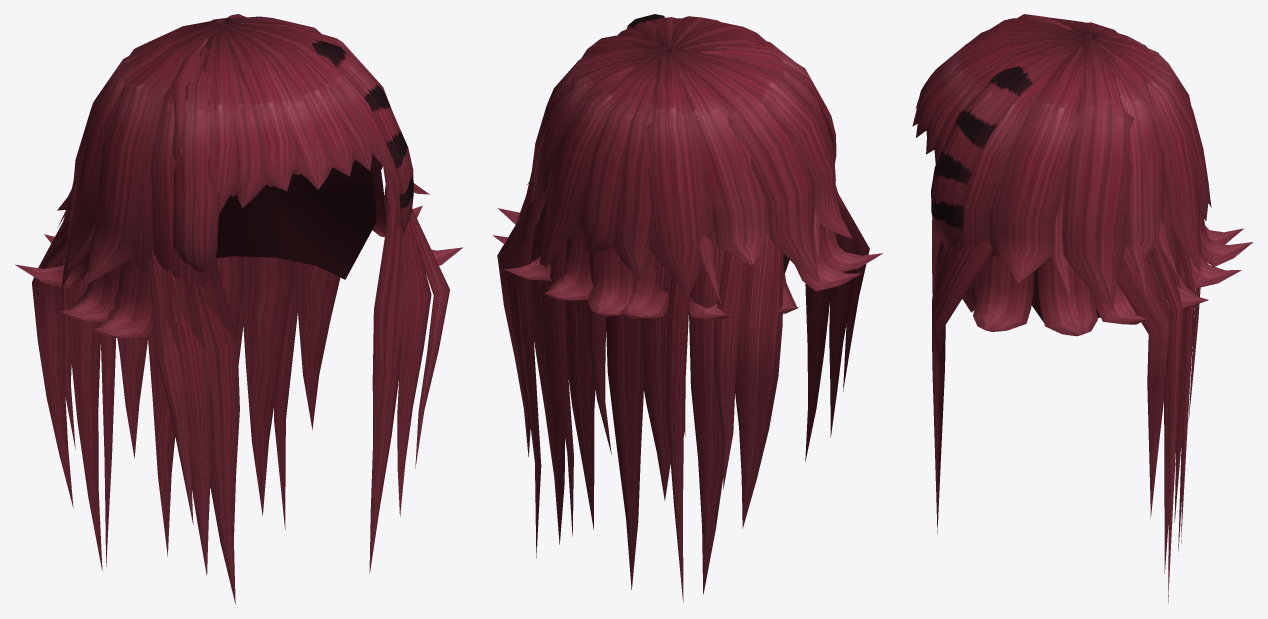
Rendered from CherryWolfHime_Hair.obj.
3 views of the same model, side by side, from view 1: azimuth 30°, elevation 25°; view 2: azimuth 150°, elevation 25°; view 3: azimuth 270°, elevation 25° (orthographic). The views are drawn at different scales.
Visible parts, largest first — view 1: CherryWolfHime_Hair; view 2: CherryWolfHime_Hair; view 3: CherryWolfHime_Hair.
Part boxes in pixels (box(x1,y1,x2,y2)): CherryWolfHime_Hair: box(15, 14, 462, 604); CherryWolfHime_Hair: box(493, 14, 882, 602); CherryWolfHime_Hair: box(912, 14, 1252, 602).
Bounding box in the file's own units: 2.22 × 3.15 × 1.85.
Materials: 1 (1 with a texture image).
